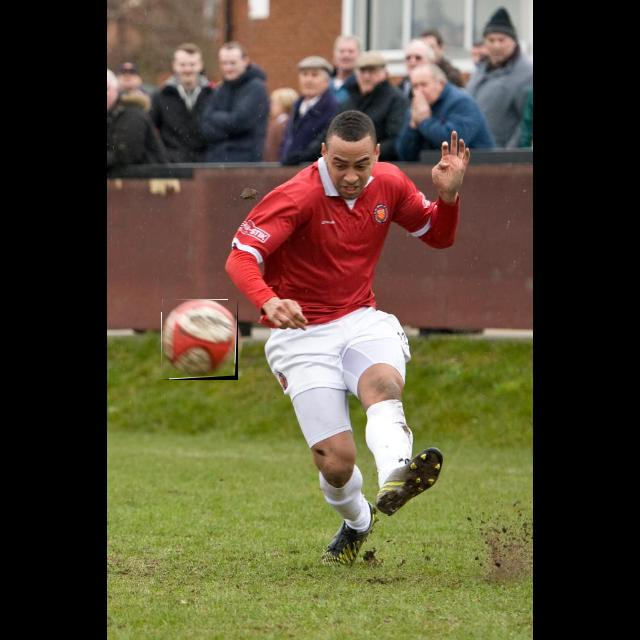Football: (162, 300, 238, 380)
